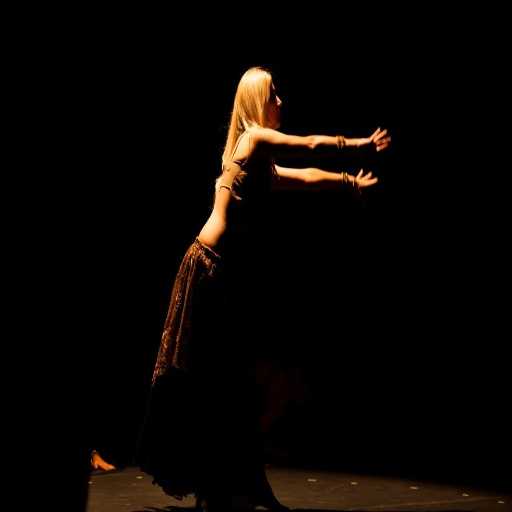hand: (355, 114, 398, 156), (351, 167, 380, 198)
